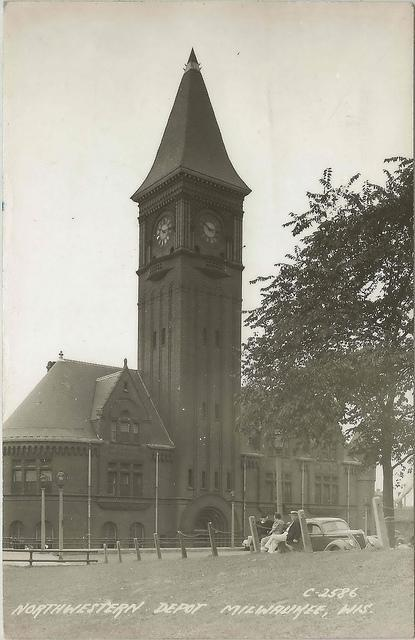car: (305, 518, 383, 551)
